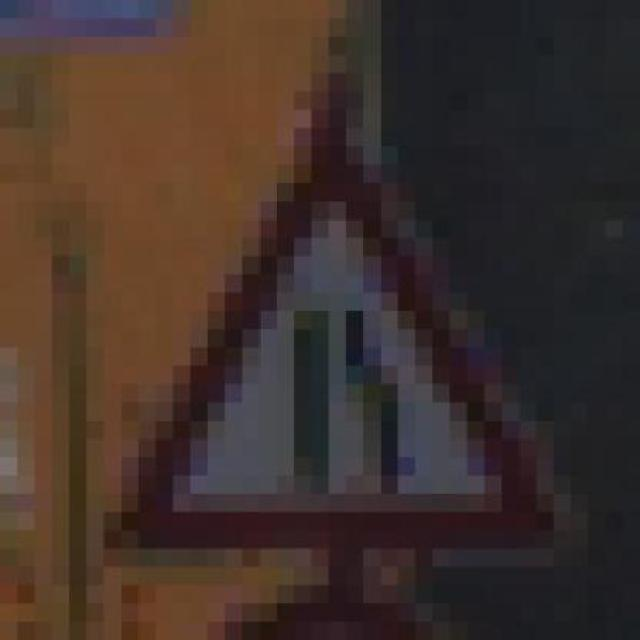-Road narrows on right: (86, 110, 571, 567)
